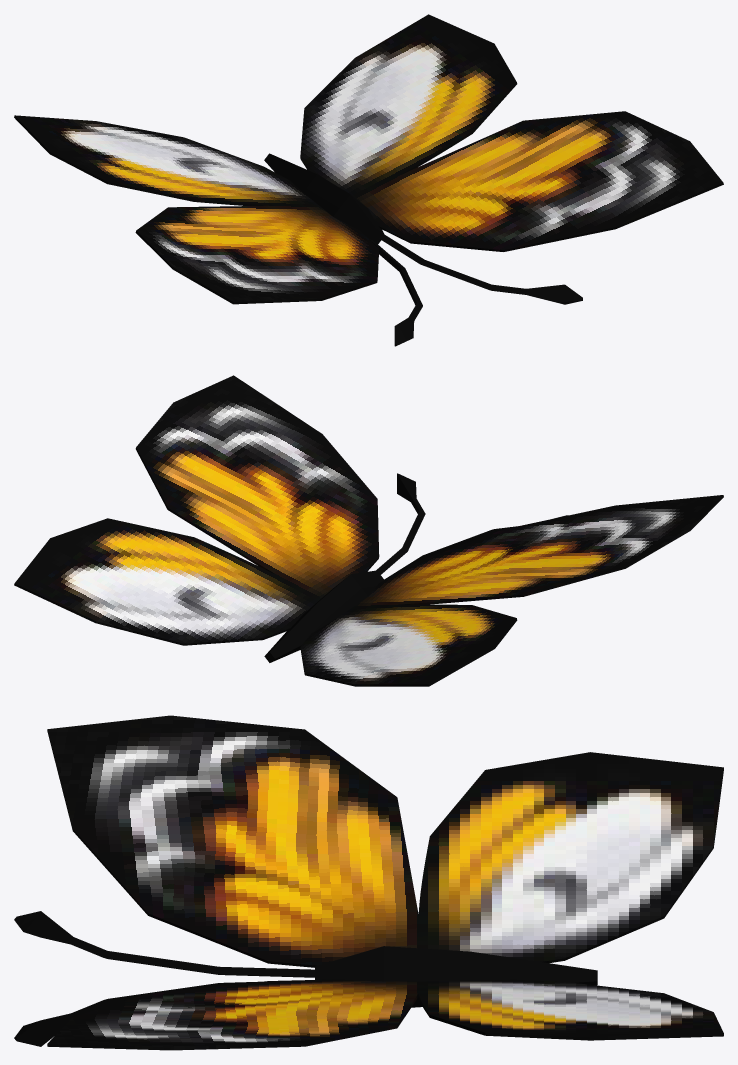
The model's file is Personage_Butterfly.FBX.
3 views of the same model, one above another, from view 1: azimuth 30°, elevation 25°; view 2: azimuth 150°, elevation 25°; view 3: azimuth 270°, elevation 25° (orthographic). The views are drawn at different scales.
Visible parts, largest first — view 1: Body; view 2: Body; view 3: Body.
Boxes of the visible parts, x1,y1,x2,y2 form: Body: (14, 14, 723, 346); Body: (14, 375, 723, 686); Body: (14, 715, 723, 1050).
Size of the model in its own units: 40.4 by 7.26 by 36.45.
